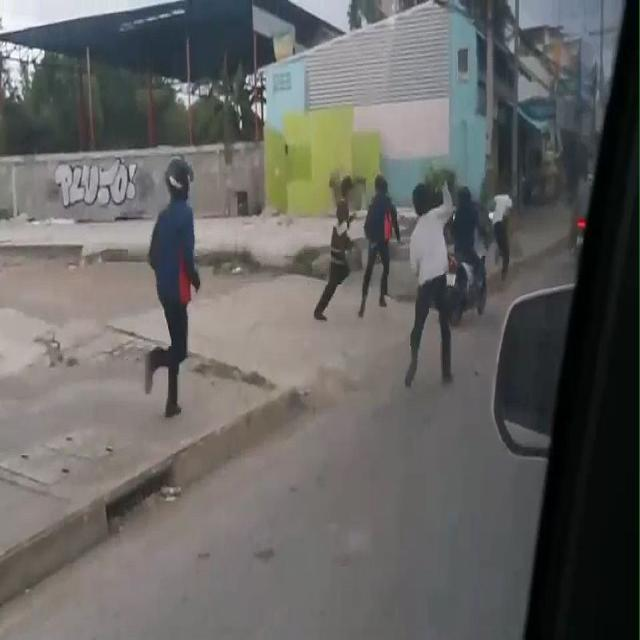helmet: (163, 142, 203, 212)
